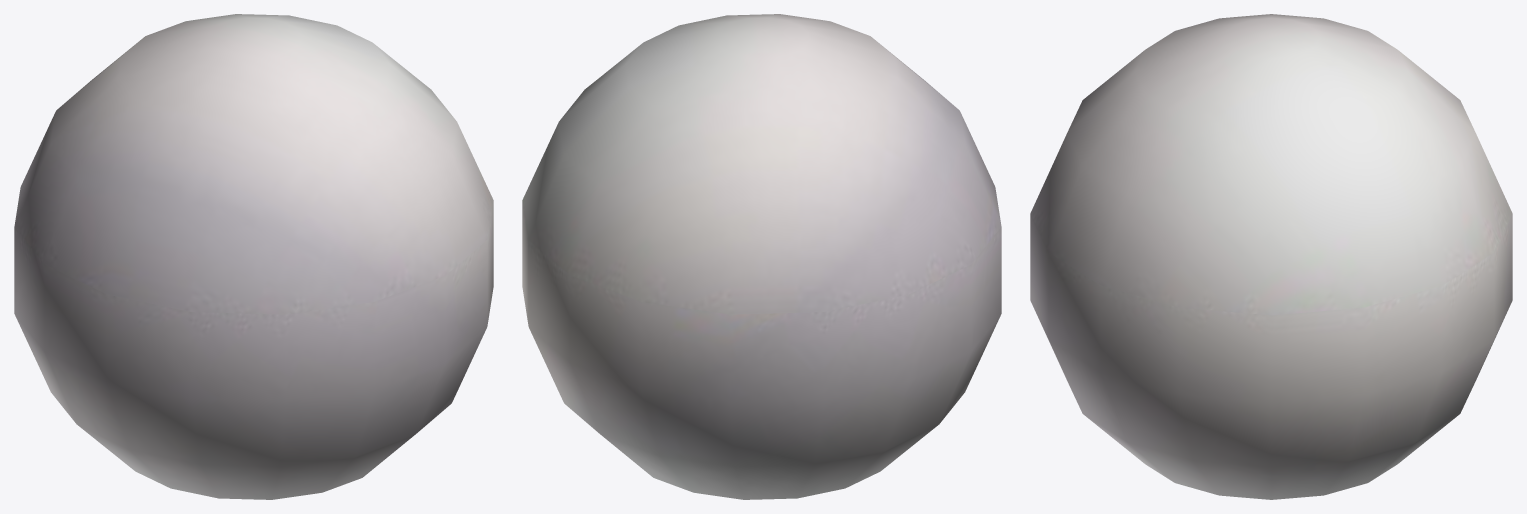
Rendered from white_ball.glb.
The picture shows the model from 3 angles, left to right: view 1: azimuth 30°, elevation 25°; view 2: azimuth 150°, elevation 25°; view 3: azimuth 270°, elevation 25°; orthographic projection.
Visible parts, largest first — view 1: Pool_Item_3; view 2: Pool_Item_3; view 3: Pool_Item_3.
Boxes of the visible parts, x1,y1,x2,y2 form: Pool_Item_3: [14, 14, 493, 499]; Pool_Item_3: [522, 14, 1001, 499]; Pool_Item_3: [1030, 14, 1512, 499].
Bounding box in the file's own units: 0.7676 × 0.7826 × 0.7676.
1 material, 1 textured.
